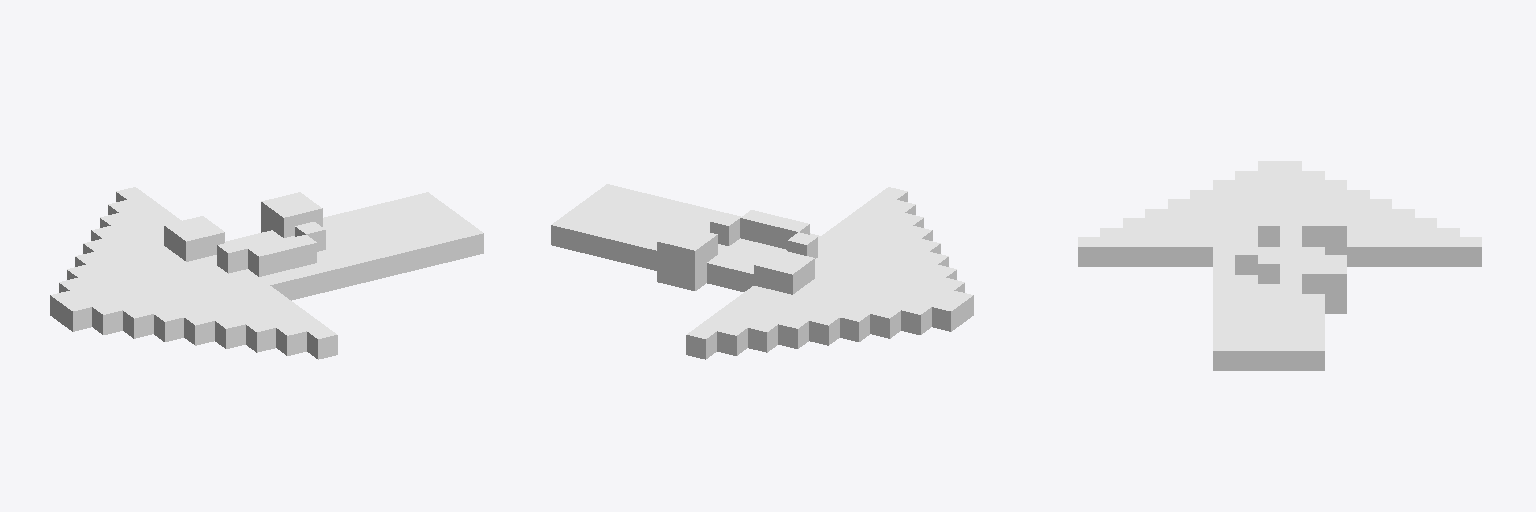
File: YAJIRUSHIIIIIIII.obj
3 renders of one model, left to right at view 1: azimuth 30°, elevation 25°; view 2: azimuth 150°, elevation 25°; view 3: azimuth 270°, elevation 25°, orthographic.
Parts seen in each view (by area): view 1: object 1; view 2: object 1; view 3: object 1.
Boxes of the visible parts, x1=… form: object 1: x1=50, y1=187, x2=483, y2=359; object 1: x1=551, y1=184, x2=973, y2=359; object 1: x1=1078, y1=161, x2=1481, y2=370.
Size of the model in its own units: 2 by 0.2 by 1.8.